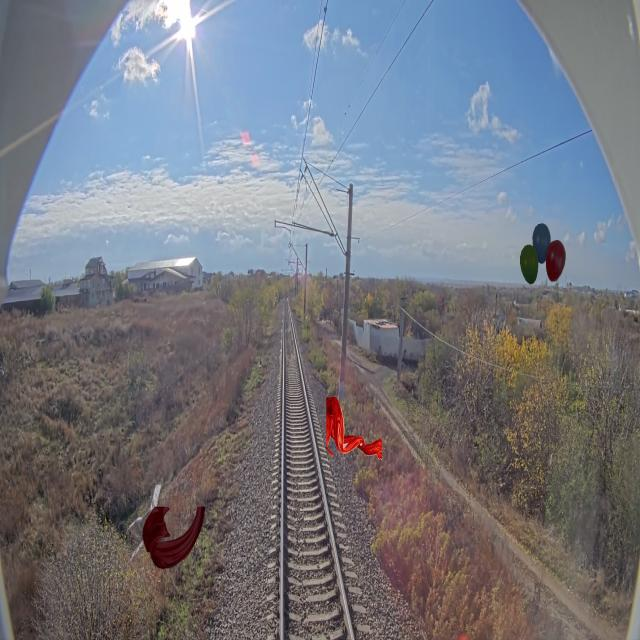balloon: (520, 222, 566, 286)
floating object: (142, 505, 206, 569), (326, 396, 382, 461)
